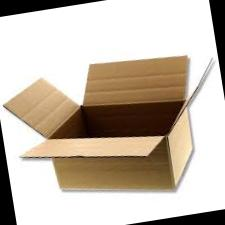Kertas: (5, 55, 210, 187)
